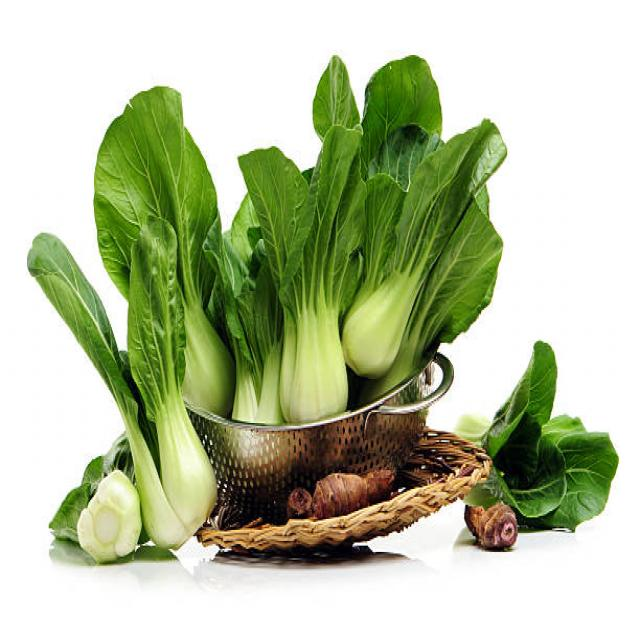Bok Choy: (503, 341, 633, 531), (358, 130, 452, 386), (140, 254, 212, 561), (276, 170, 361, 418), (48, 444, 129, 577)
